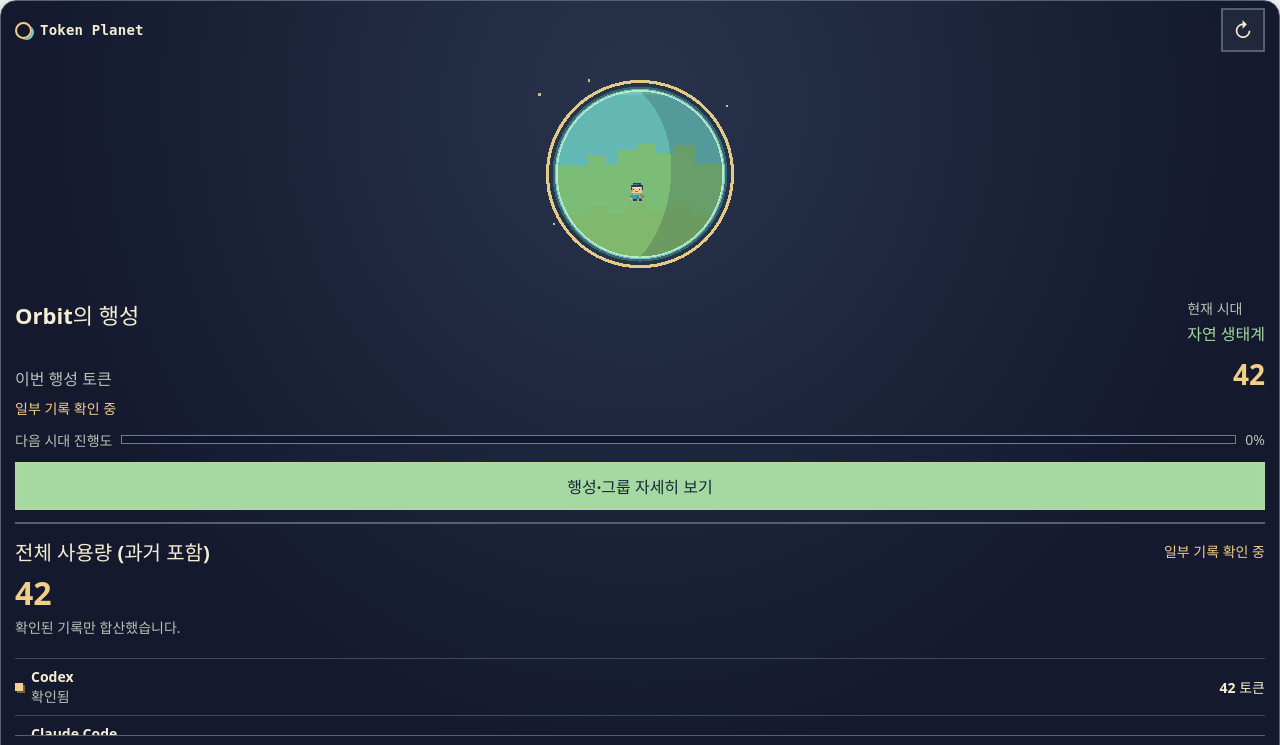
Test case: opens the growth journal in the current window and returns to personal detail
Expected: the heading "Orbit의 행성" is shown, [15,298,139,330]
Click the button "행성·그룹 자세히 보기" at (640, 486), box [15,462,1265,510]
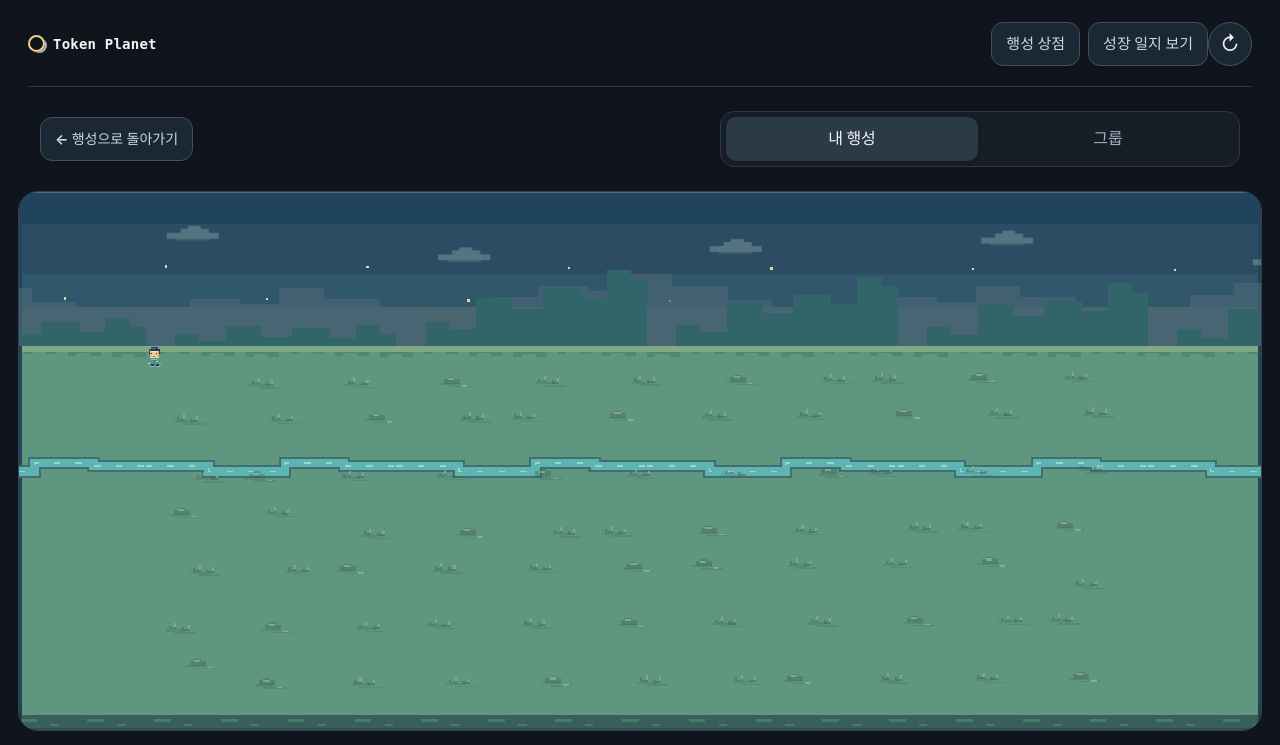
Click the button "성장 일지 보기" at (1148, 44), box [1088,22,1208,66]
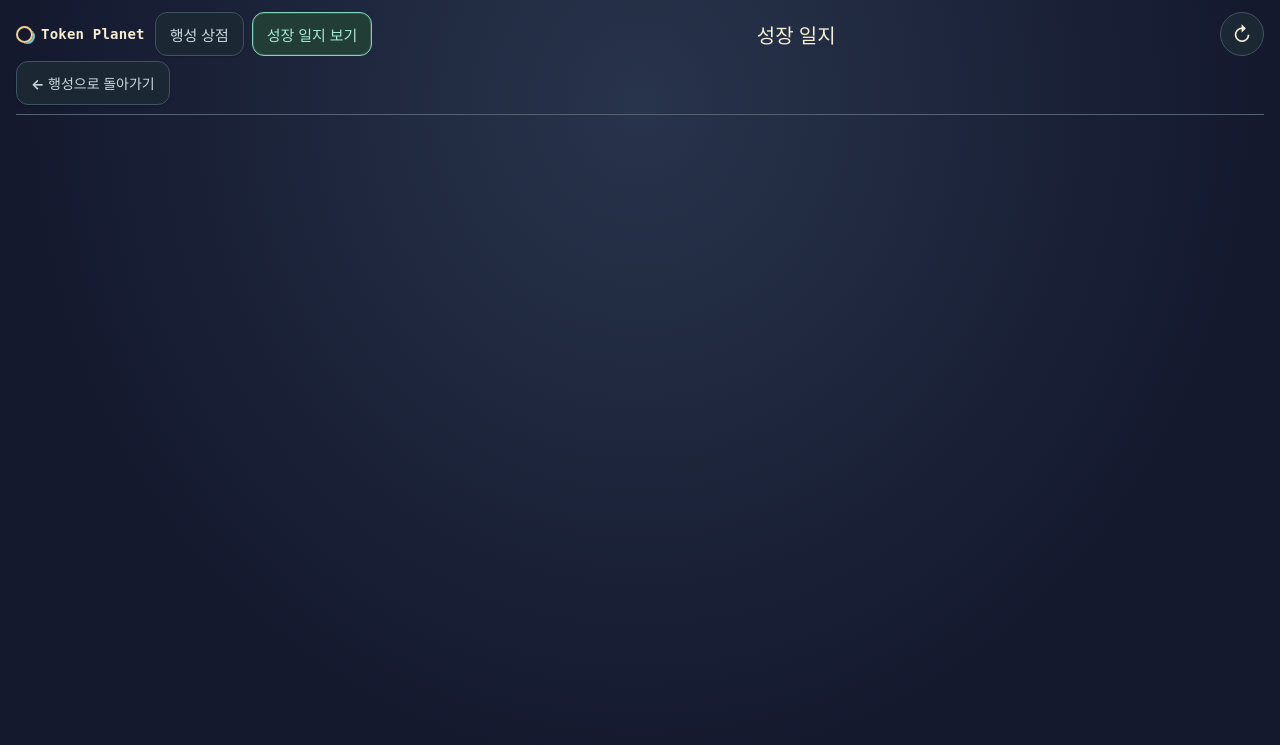
Click the button "← 행성으로 돌아가기" at (93, 83), box [16,61,170,105]
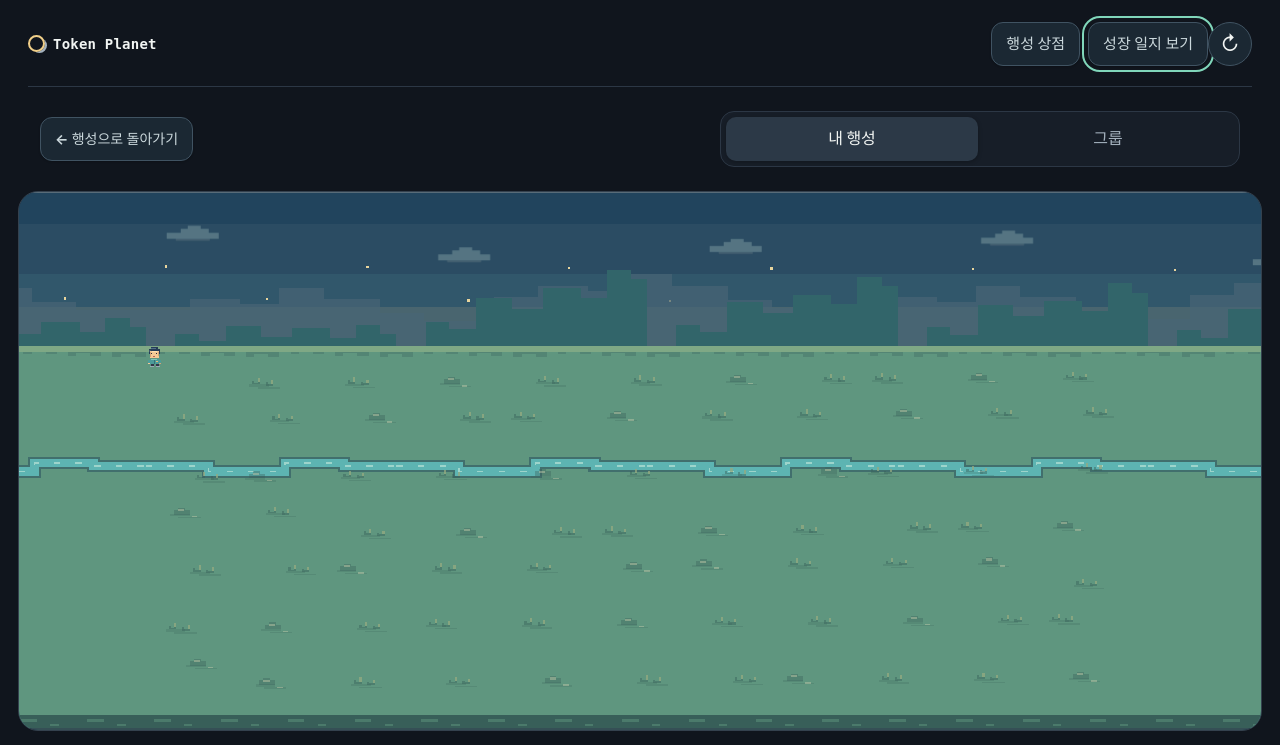
Now the element named "행성 풍경" is shown
